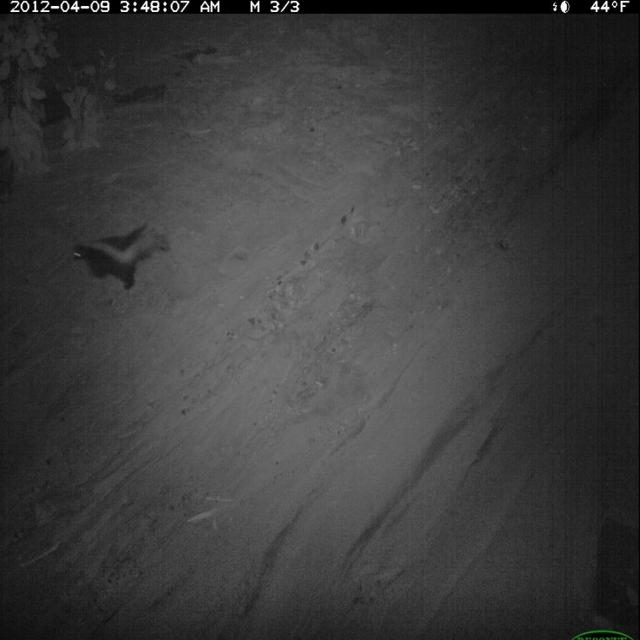skunk: (68, 219, 174, 292)
